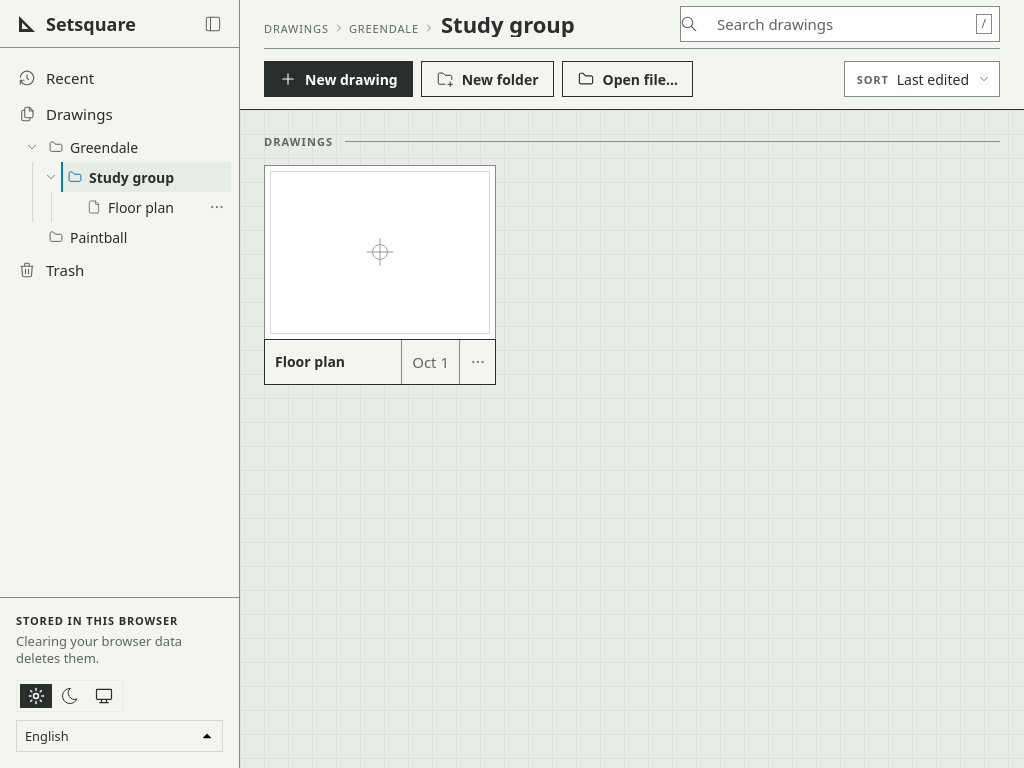
Test: Move to… › moves a drawing to the folder chosen, the current one marked
The width and height of the screenshot is (1024, 768).
Click the button named "Actions for Floor plan" next to "Oct 1": (477, 362) [459,340,495,384]
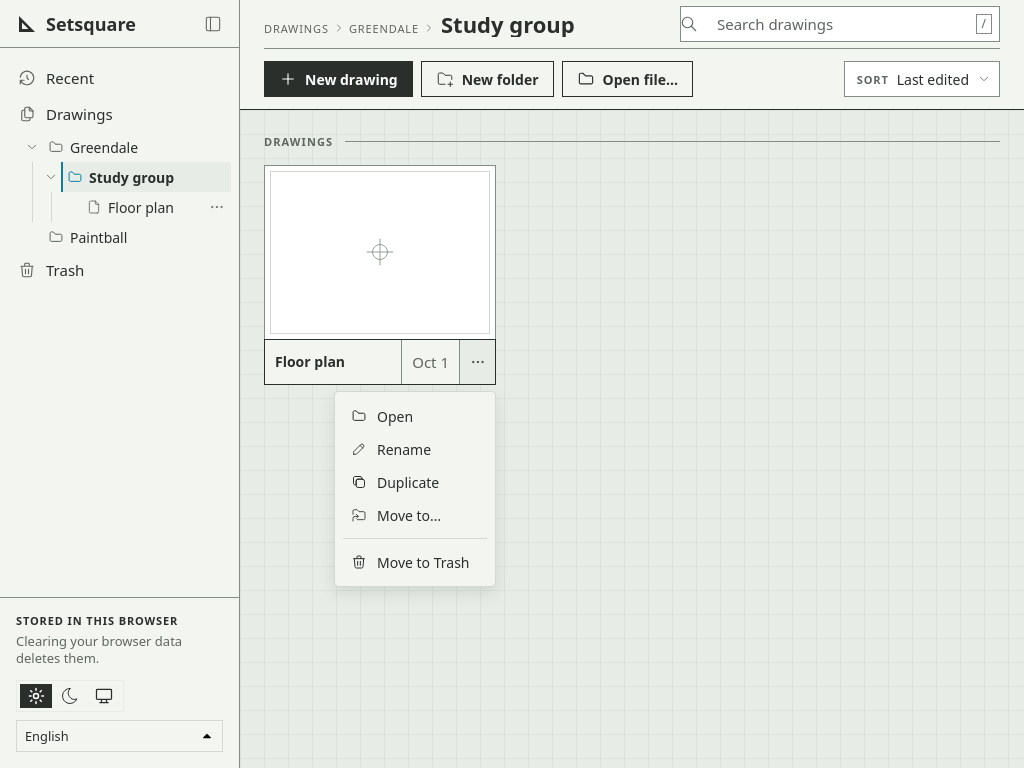
Click the menu item "Move to…": (415, 515) [343,499,487,531]
(page scrolled)
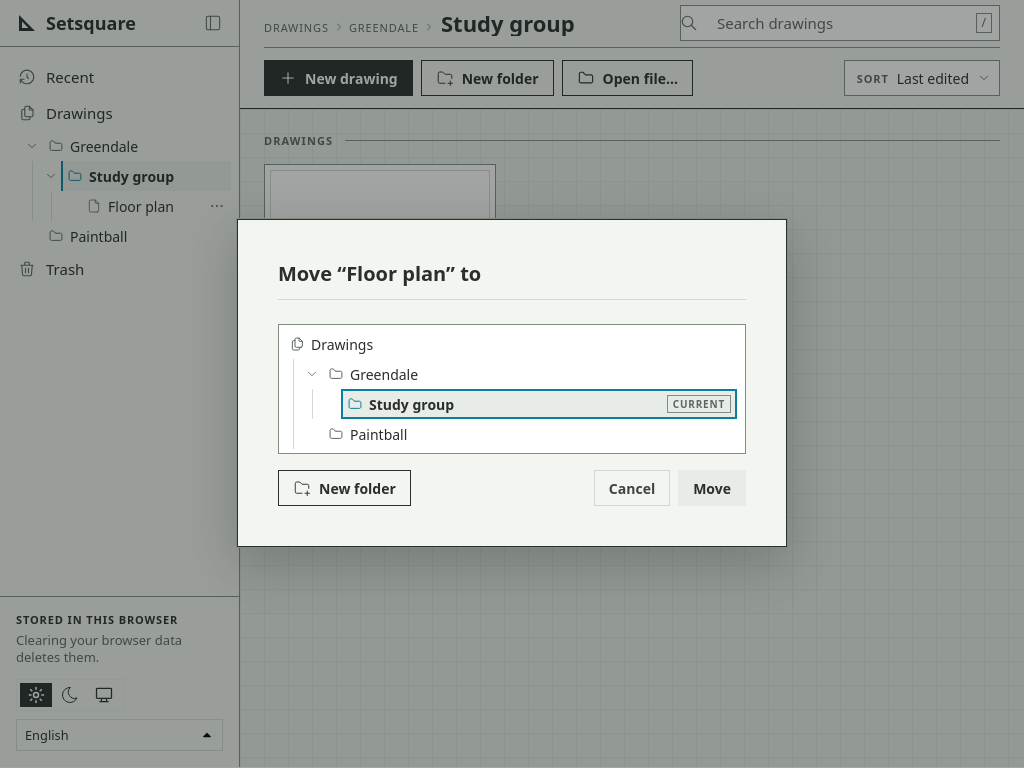
Expected: the button "Move" is disabled, [678,470,746,506]
Expected: the 1st radio button labelled "Study group" is checked, [341,389,737,419]
Click the 1st radio button labelled "Paintball": (368, 434) [328,424,407,444]
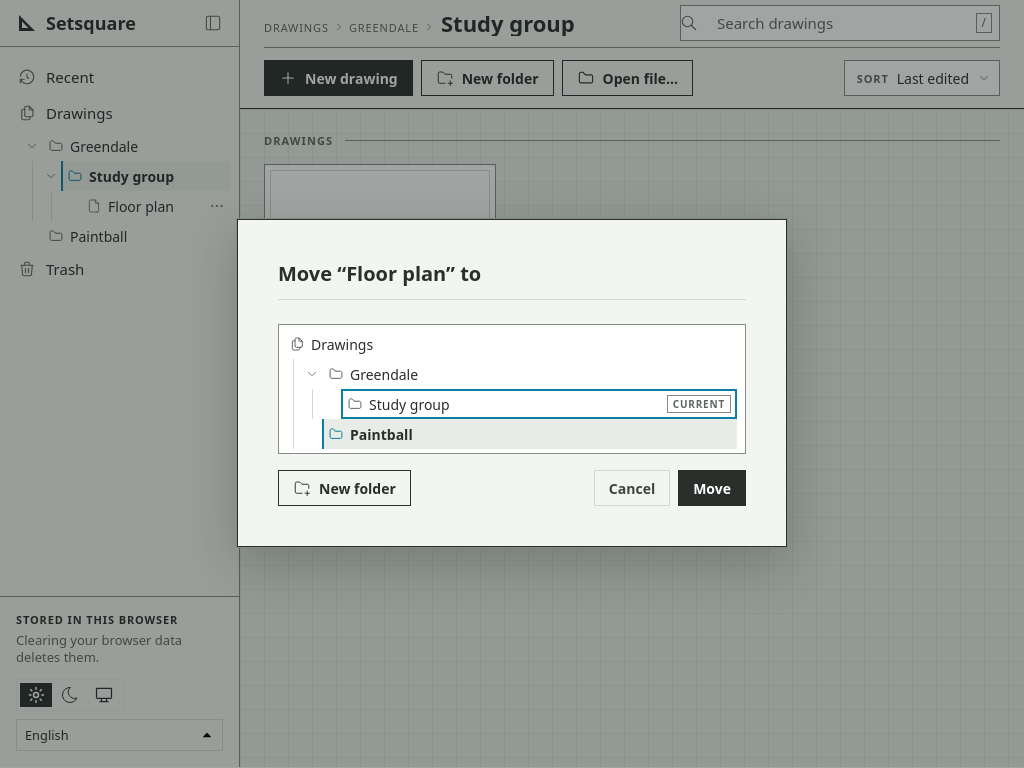
Expected: the 1st radio button labelled "Paintball" is checked, [322,419,737,449]
Expected: the 1st radio button labelled "Study group" is not checked, [341,389,737,419]
Click the button "Move": (712, 488) [678,470,746,506]
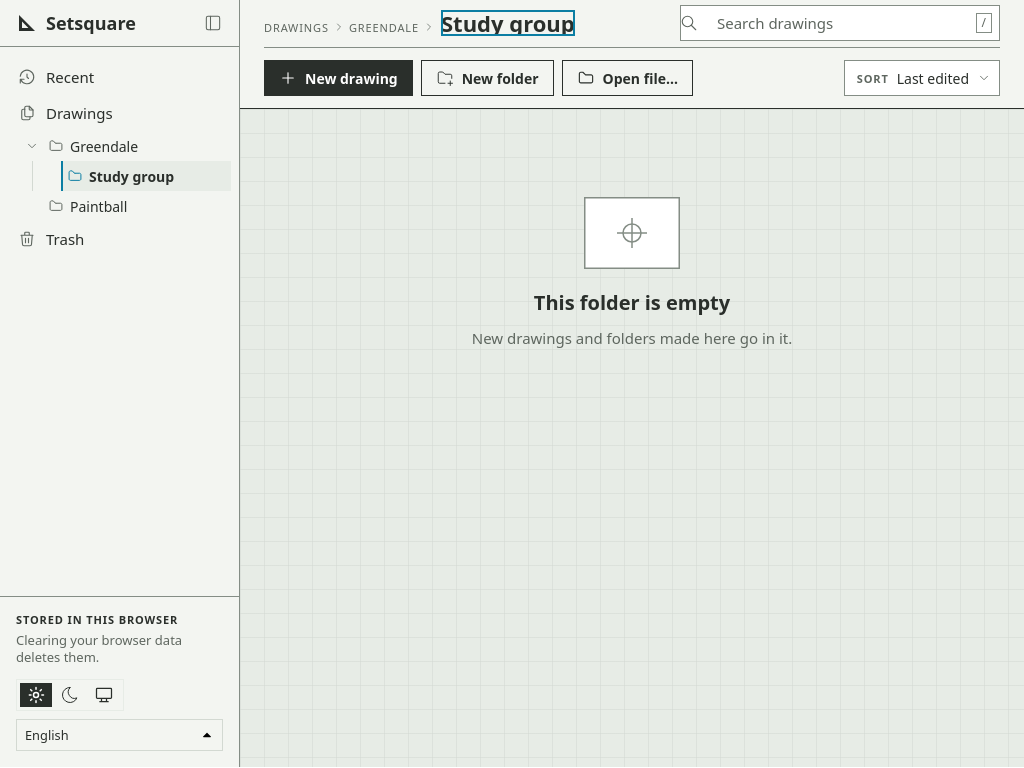
Expected: the dialog is gone
